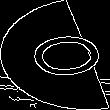O_E: (7, 28, 103, 82)
